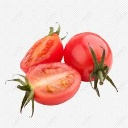tomato: (64, 30, 115, 81), (25, 67, 84, 104), (19, 31, 65, 68)
